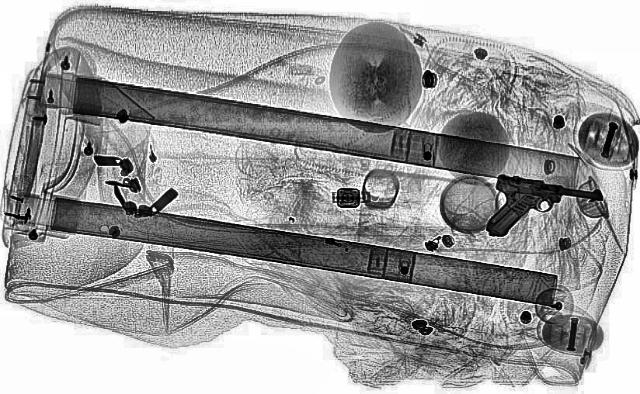Gun: (474, 173, 608, 247)
